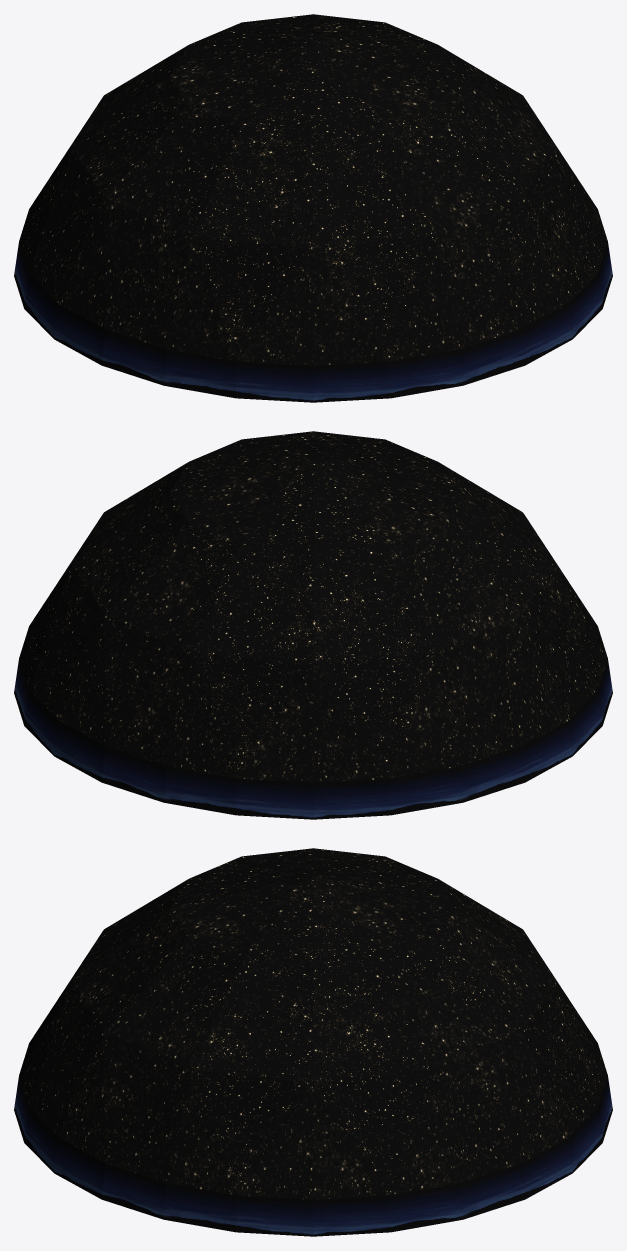
The model's file is Skybox.obj.
The picture shows the model from 3 angles, top to bottom: view 1: azimuth 30°, elevation 25°; view 2: azimuth 150°, elevation 25°; view 3: azimuth 270°, elevation 25°; orthographic projection.
Visible parts, largest first — view 1: Object_1; view 2: Object_1; view 3: Object_1.
Part boxes in pixels (bbox=[...]): Object_1: bbox=[14, 14, 612, 402]; Object_1: bbox=[14, 431, 612, 819]; Object_1: bbox=[14, 848, 612, 1236].
Bounding box in the file's own units: 150000 × 64660 × 150000.
